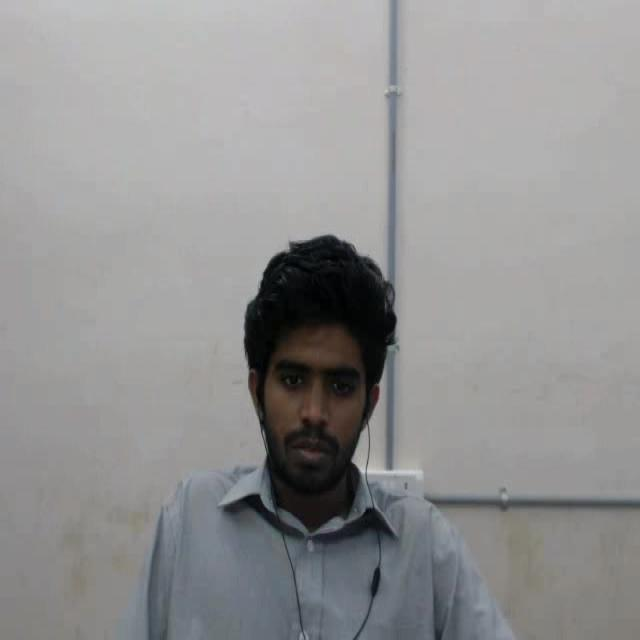Engaged: (241, 214, 427, 528)
